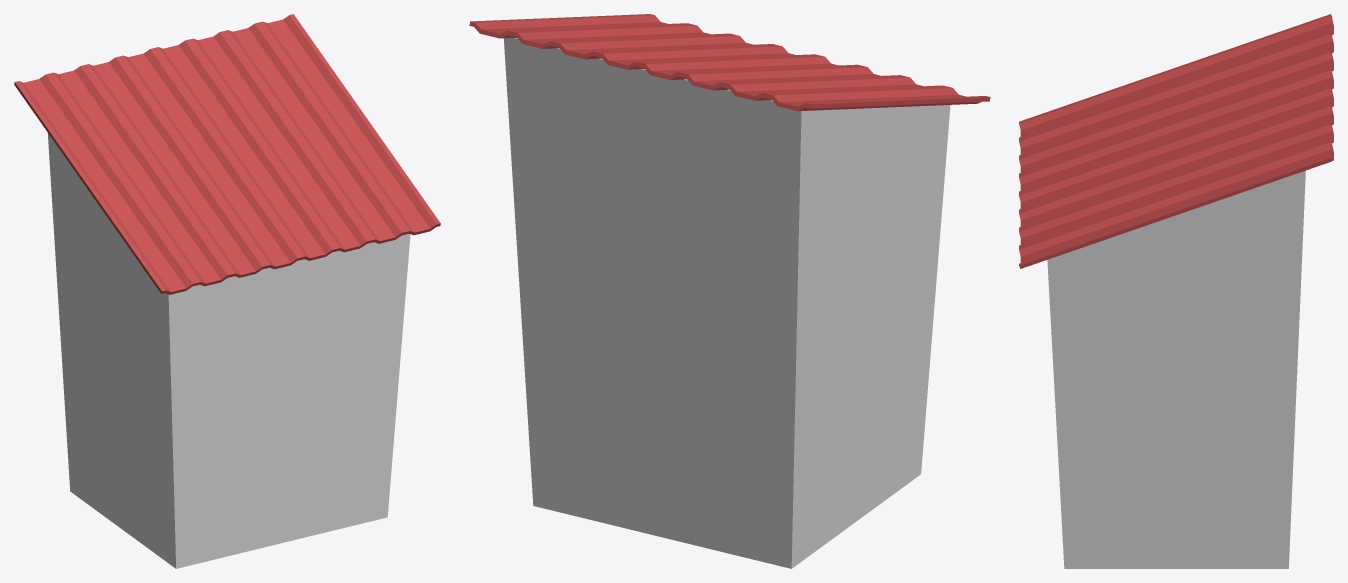
Rendered from House (WC).fbx.
3 renders of one model, left to right at view 1: azimuth 30°, elevation 25°; view 2: azimuth 150°, elevation 25°; view 3: azimuth 270°, elevation 25°, orthographic. The views are drawn at different scales.
Visible parts, largest first — view 1: House (WC); view 2: House (WC); view 3: House (WC).
Boxes of the visible parts, bbox=[...] form: House (WC): bbox=[14, 14, 440, 568]; House (WC): bbox=[469, 14, 990, 568]; House (WC): bbox=[1019, 14, 1333, 568].
Size of the model in its own units: 735 by 1016 by 679.
